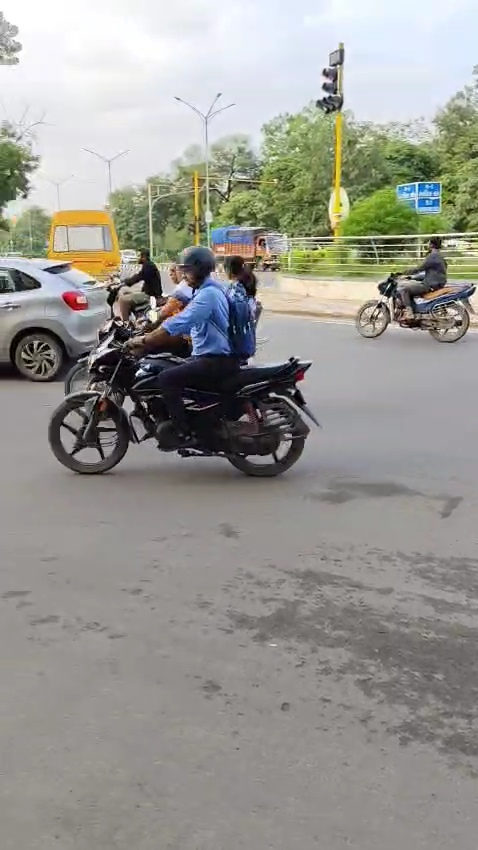BikeWithRider: (39, 239, 330, 485), (347, 231, 478, 347)
Helmet: (172, 241, 220, 289)
NoHelmet: (221, 254, 260, 297), (420, 233, 453, 258)
